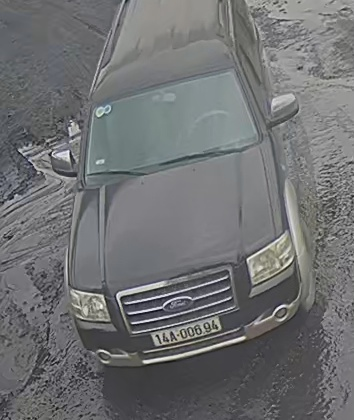vehicle plate: (151, 314, 220, 349)
